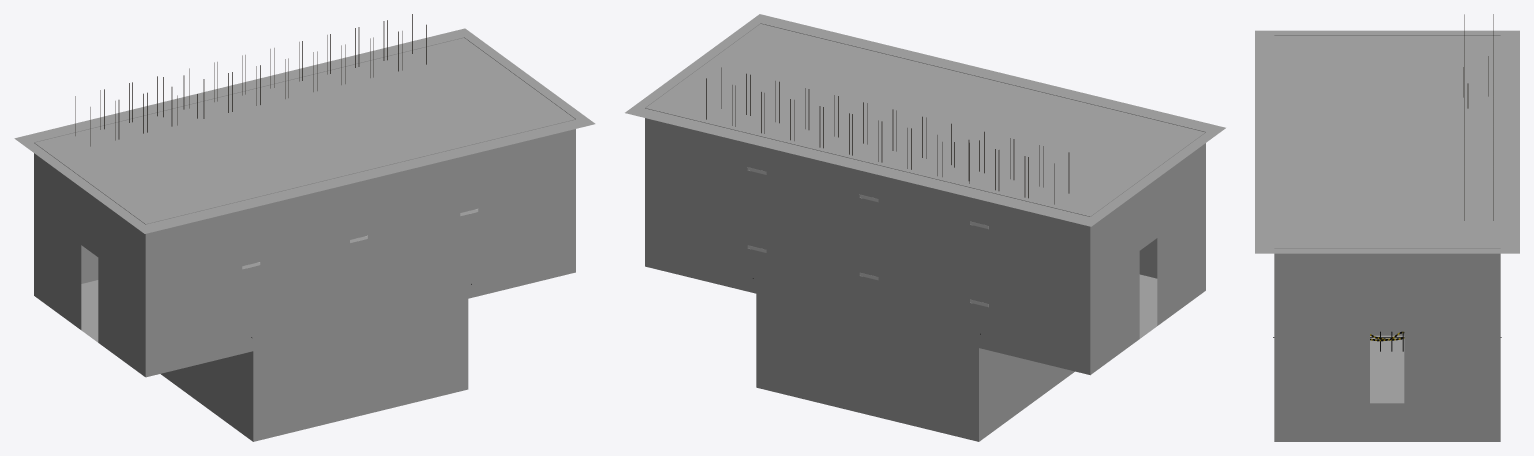
File: Section 5 Present.fbx
3 renders of one model, left to right at view 1: azimuth 30°, elevation 25°; view 2: azimuth 150°, elevation 25°; view 3: azimuth 270°, elevation 25°, orthographic. The views are drawn at different scales.
Parts seen in each view (by area): view 1: SECTION_5, pPlane3, Catwalks; view 2: SECTION_5, pPlane3, Catwalks; view 3: pPlane3, SECTION_5, Catwalks.
Part boxes in pixels (x1,y1,x2,y2): SECTION_5: (34,37,575,441); pPlane3: (14,28,595,233); Catwalks: (75,14,426,146); SECTION_5: (645,23,1205,441); pPlane3: (625,14,1225,226); Catwalks: (706,67,1069,204); pPlane3: (1255,30,1519,253); SECTION_5: (1274,35,1500,441); Catwalks: (1463,14,1493,220).
Bounding box in the file's own units: 2493 × 1502 × 1252.
